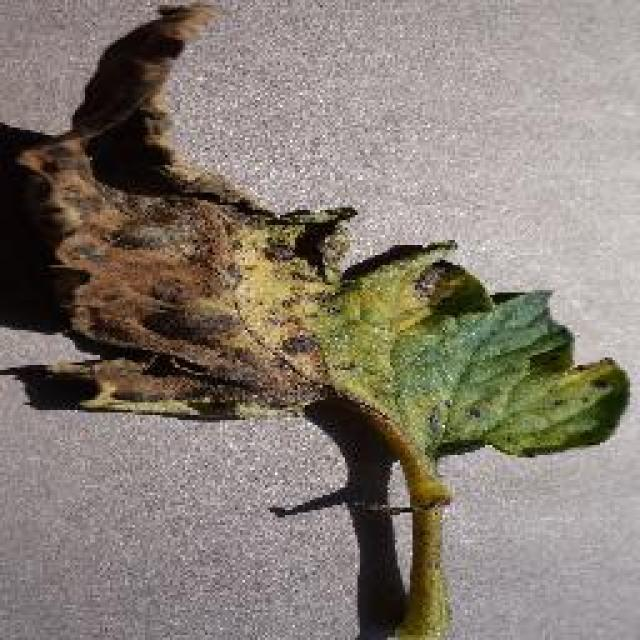Tomato___Early_blight: (9, 0, 633, 638)
